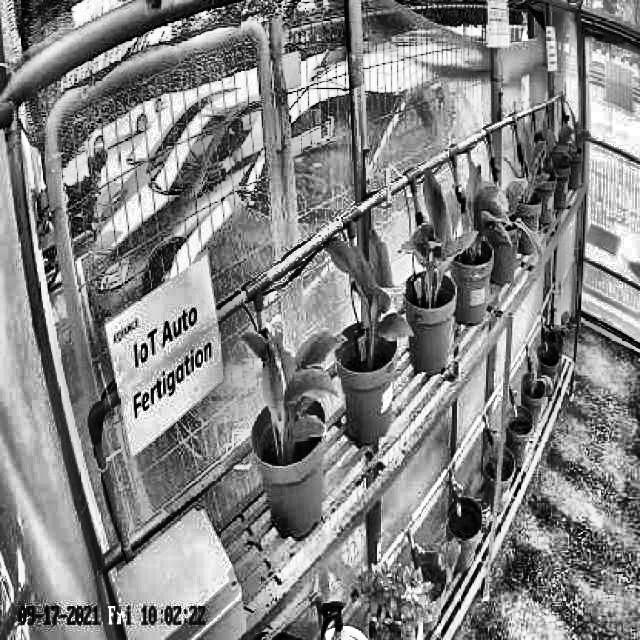plants: (240, 322, 349, 466), (319, 232, 413, 370), (393, 168, 476, 304), (458, 171, 512, 264)
